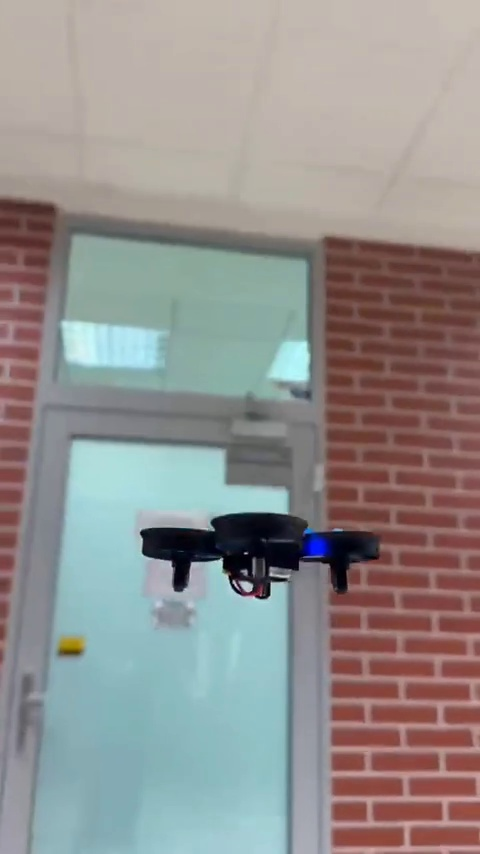drone: (141, 512, 385, 604)
